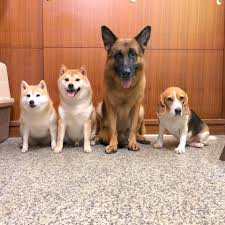dog: (110, 46, 142, 84), (62, 76, 84, 100), (165, 94, 186, 117), (24, 91, 44, 112)
